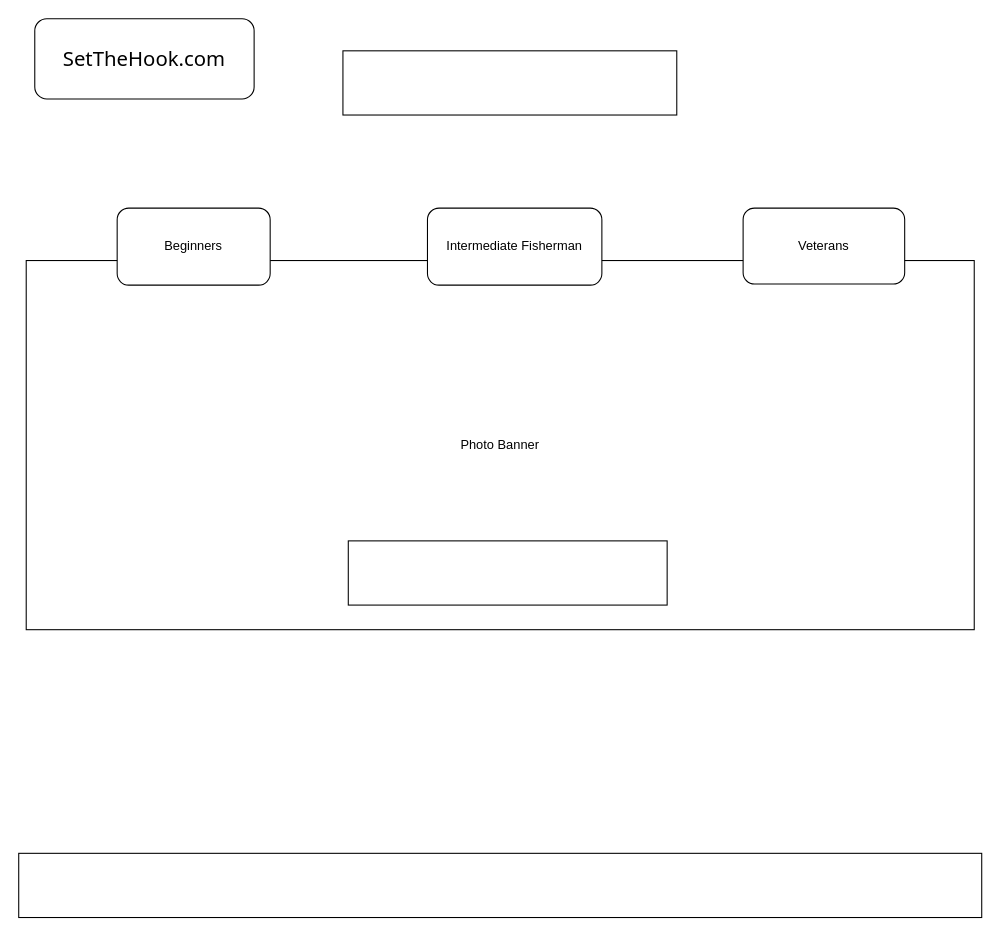
Image size: 1000x936. Some labels were removed from this diagram. The centre of each missing label's shape, as x and y in pixels:
"FISHING GUIDE" goes at point 509,82.
"Footer" goes at point 500,885.
"Species Search Bar" goes at point 507,572.
